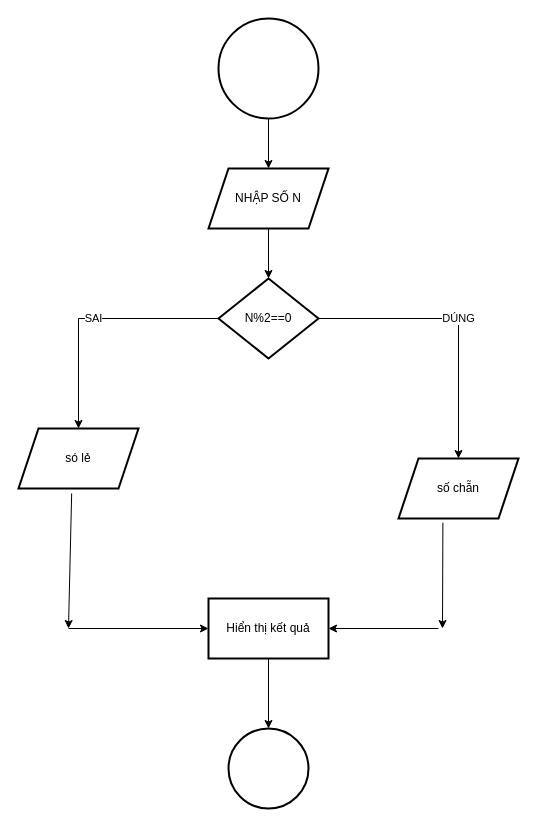
Some shapes in this 536 by 826 pixel diagram are drawn without their labels. Each missing label, with the centre of its shape:
END: the point at 268,768
START: the point at 268,68
